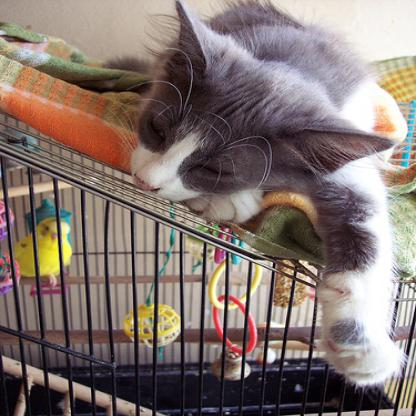cat: (128, 0, 404, 387)
